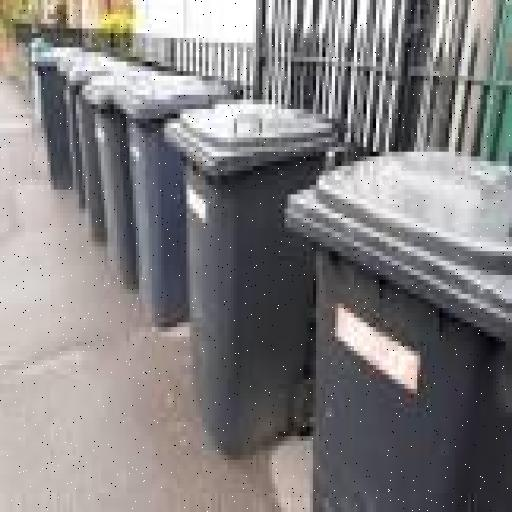poubelle_vide: (283, 156, 512, 512), (157, 114, 331, 470), (110, 84, 227, 330)
